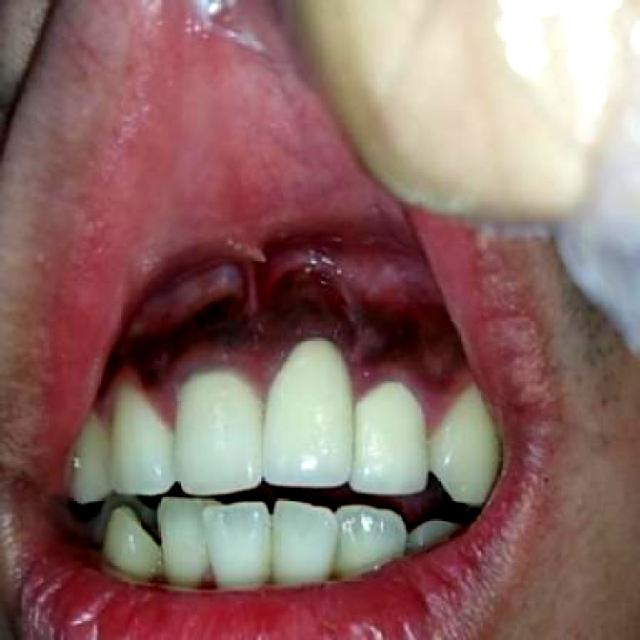Plaque: (118, 293, 427, 421)
